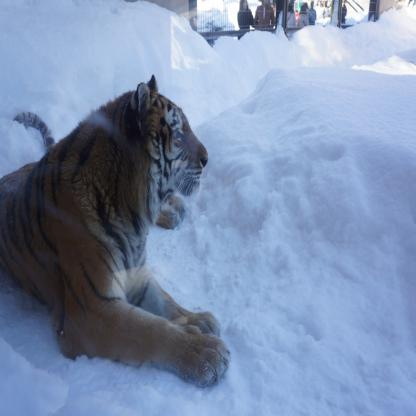tiger: (131, 69, 218, 223)
